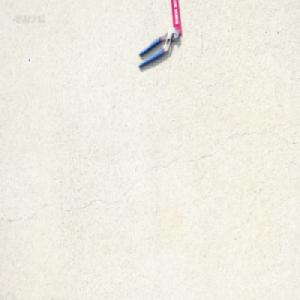Label: (170, 0, 182, 35)
Pliers: (137, 26, 179, 69)
